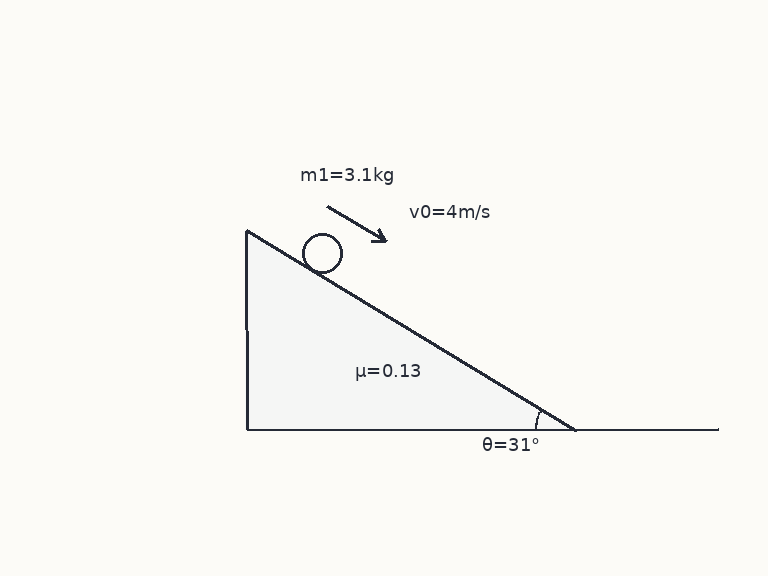ball: (300, 231, 344, 275)
ramp: (244, 229, 578, 431)
